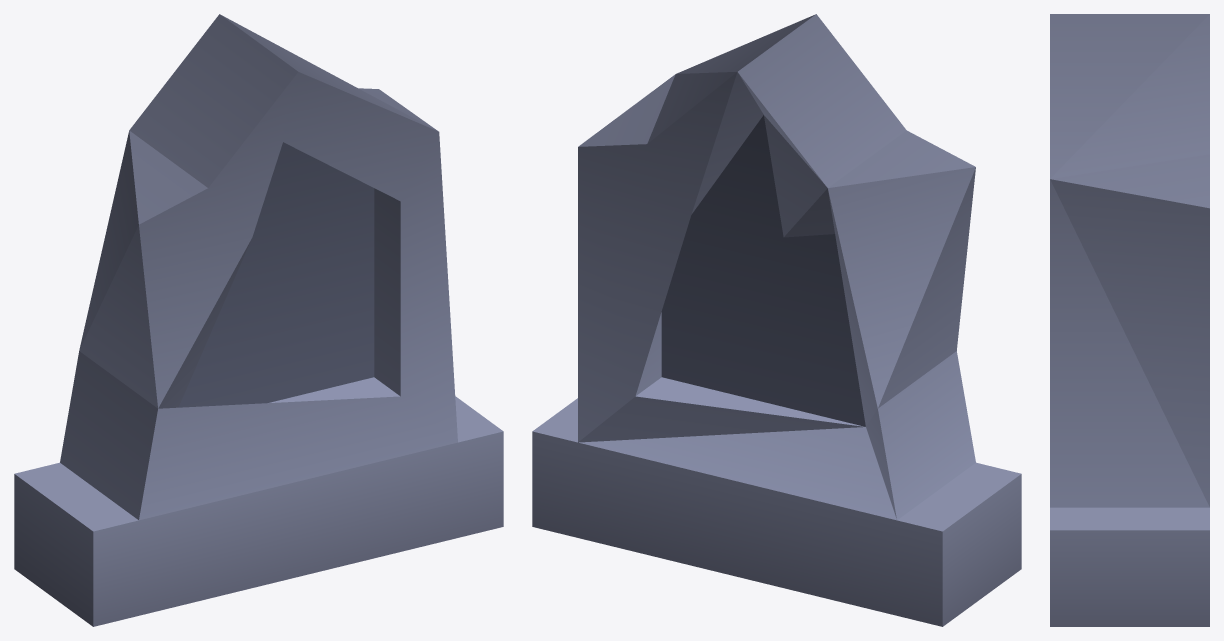
Rendered from K_gravestone-bevel_lod.glb.
The picture shows the model from 3 angles, left to right: view 1: azimuth 30°, elevation 25°; view 2: azimuth 150°, elevation 25°; view 3: azimuth 270°, elevation 25°; orthographic projection.
Parts seen in each view (by area): view 1: gravestone-bevel; view 2: gravestone-bevel; view 3: gravestone-bevel.
Boxes of the visible parts, x1,y1,x2,y2 form: gravestone-bevel: (14, 14, 503, 626); gravestone-bevel: (532, 14, 1021, 626); gravestone-bevel: (1050, 14, 1209, 626).
Bounding box in the file's own units: 0.45 × 0.5293 × 0.15.
